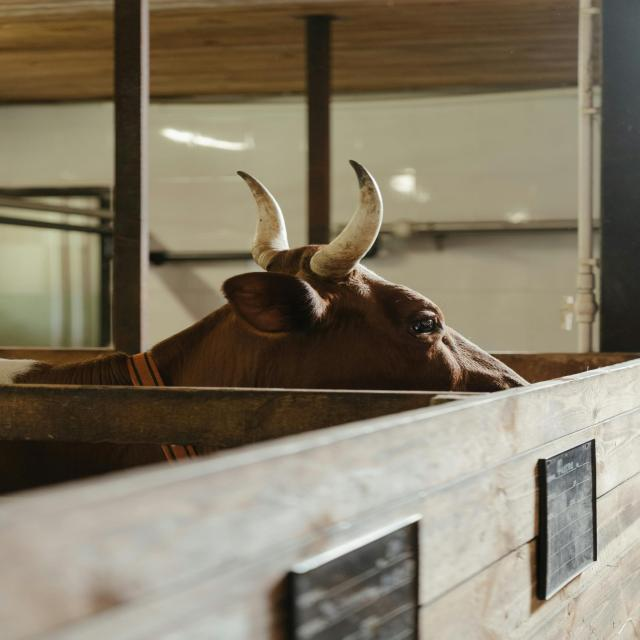Ox: (0, 159, 527, 394)
